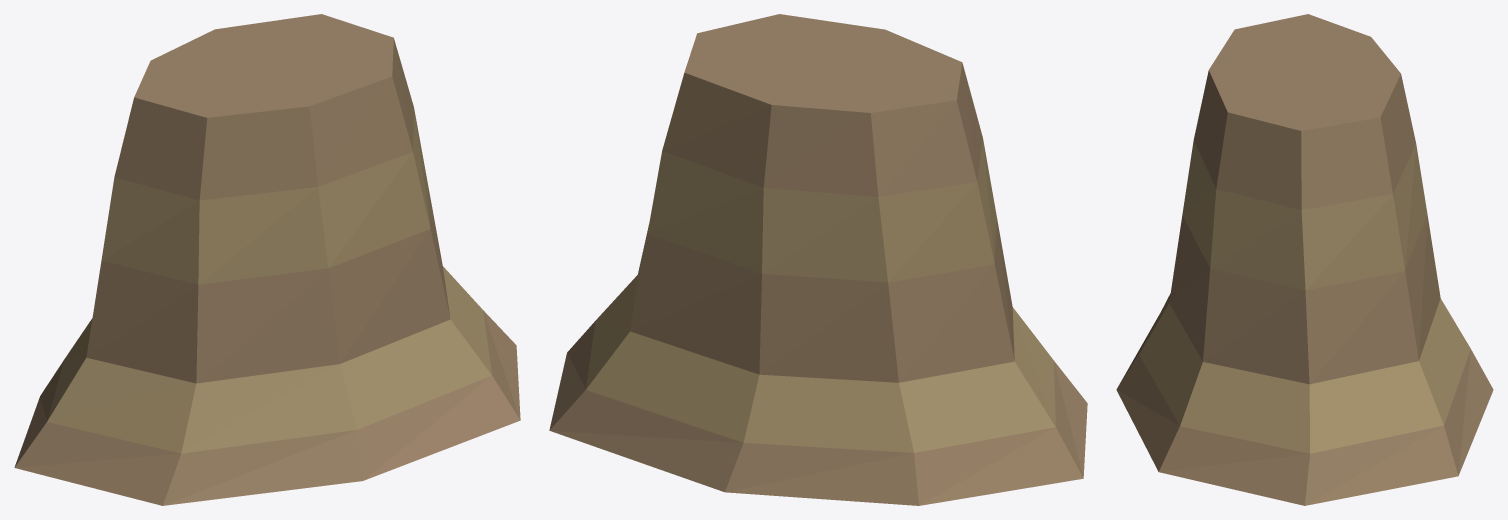
Rendered from Environment_Landmark_Mesa_001_LOD1.glb.
The picture shows the model from 3 angles, left to right: view 1: azimuth 30°, elevation 25°; view 2: azimuth 150°, elevation 25°; view 3: azimuth 270°, elevation 25°; orthographic projection. The views are drawn at different scales.
Parts seen in each view (by area): view 1: Environment_Landmark_Mesa_001_LOD1; view 2: Environment_Landmark_Mesa_001_LOD1; view 3: Environment_Landmark_Mesa_001_LOD1.
Part boxes in pixels (x1,y1,x2,y2): Environment_Landmark_Mesa_001_LOD1: (14, 14, 520, 505); Environment_Landmark_Mesa_001_LOD1: (549, 14, 1087, 505); Environment_Landmark_Mesa_001_LOD1: (1116, 14, 1493, 505).
Size of the model in its own units: 24.77 by 16 by 17.2.
